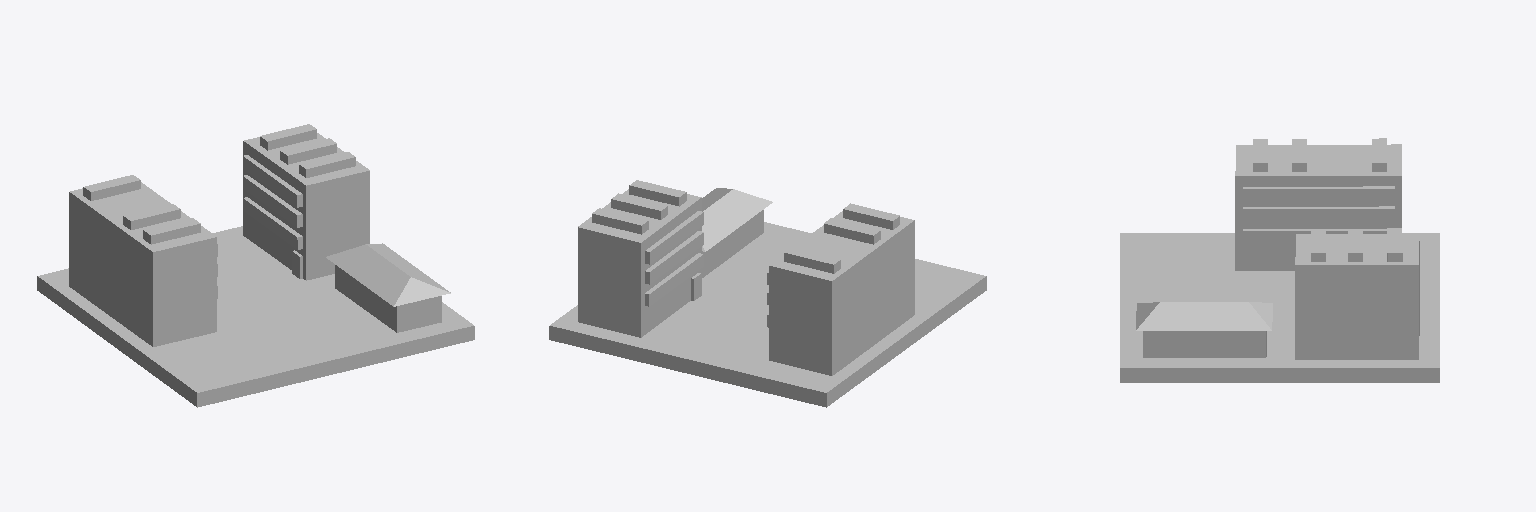
Rendered from houses.obj.
3 renders of one model, left to right at view 1: azimuth 30°, elevation 25°; view 2: azimuth 150°, elevation 25°; view 3: azimuth 270°, elevation 25°, orthographic.
Parts seen in each view (by area): view 1: houses; view 2: houses; view 3: houses.
Part boxes in pixels (x1,y1,x2,y2): houses: (37,124,474,407); houses: (549,180,986,407); houses: (1120,138,1439,382).
Bounding box in the file's own units: 40 × 16.36 × 40.